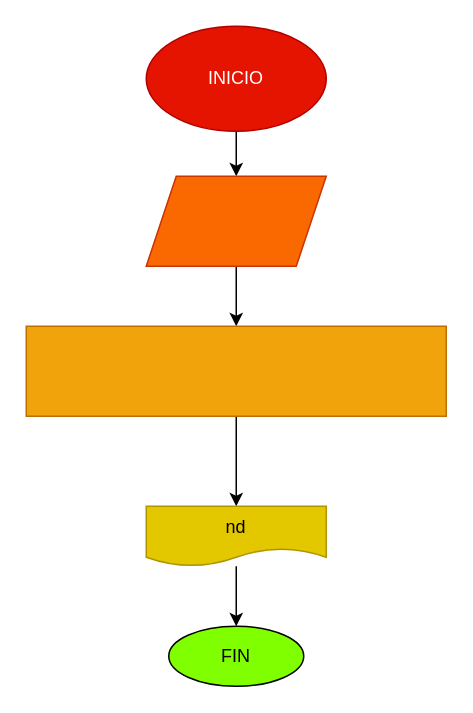
This 473x713 diagram has some shape labels left out. Each missing label, with the centre of its shape:
nc,np,na,au,bi: pixel 235 220
nd=0.3*nc+0.3*np+0.1*na+0.1*au+0.2*bi: pixel 235 370
